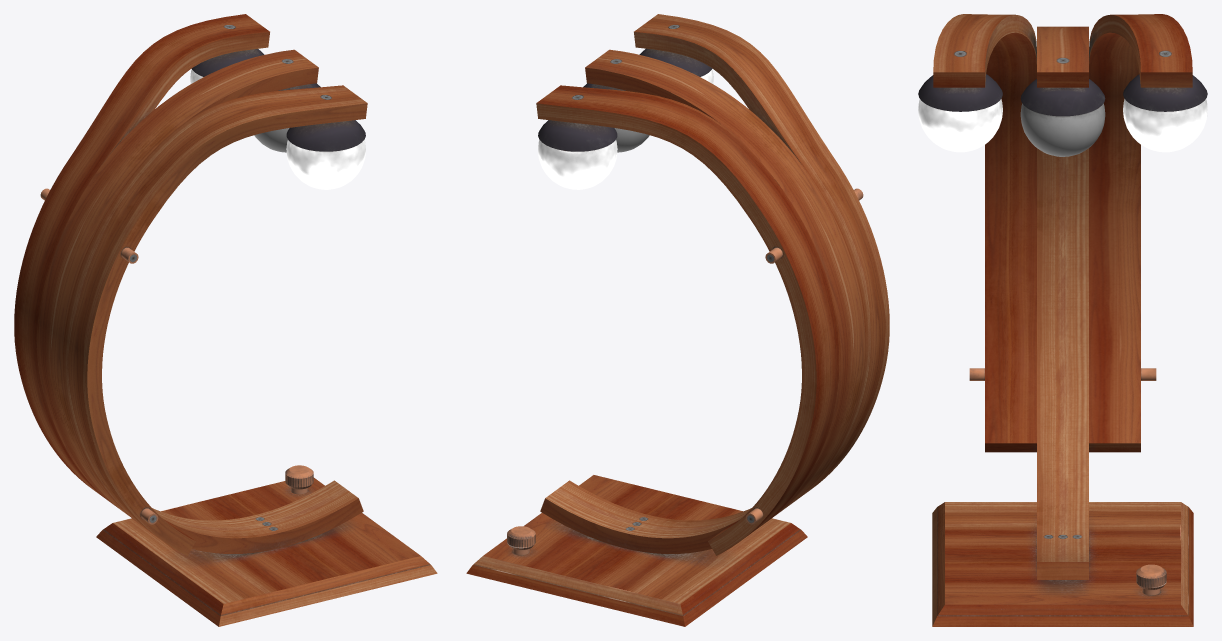
The model's file is art_deco_lamp.glb.
The picture shows the model from 3 angles, left to right: view 1: azimuth 30°, elevation 25°; view 2: azimuth 150°, elevation 25°; view 3: azimuth 270°, elevation 25°; orthographic projection. The views are drawn at different scales.
Visible parts, largest first — view 1: Plane.003_Material_0; view 2: Plane.003_Material_0; view 3: Plane.003_Material_0.
Part boxes in pixels (left/top/right/bottom): Plane.003_Material_0: left=14, top=14, right=437, bottom=626; Plane.003_Material_0: left=466, top=14, right=889, bottom=626; Plane.003_Material_0: left=918, top=14, right=1207, bottom=626.
Size of the model in its own units: 27.57 by 39.97 by 19.96.
1 material, 1 textured.
